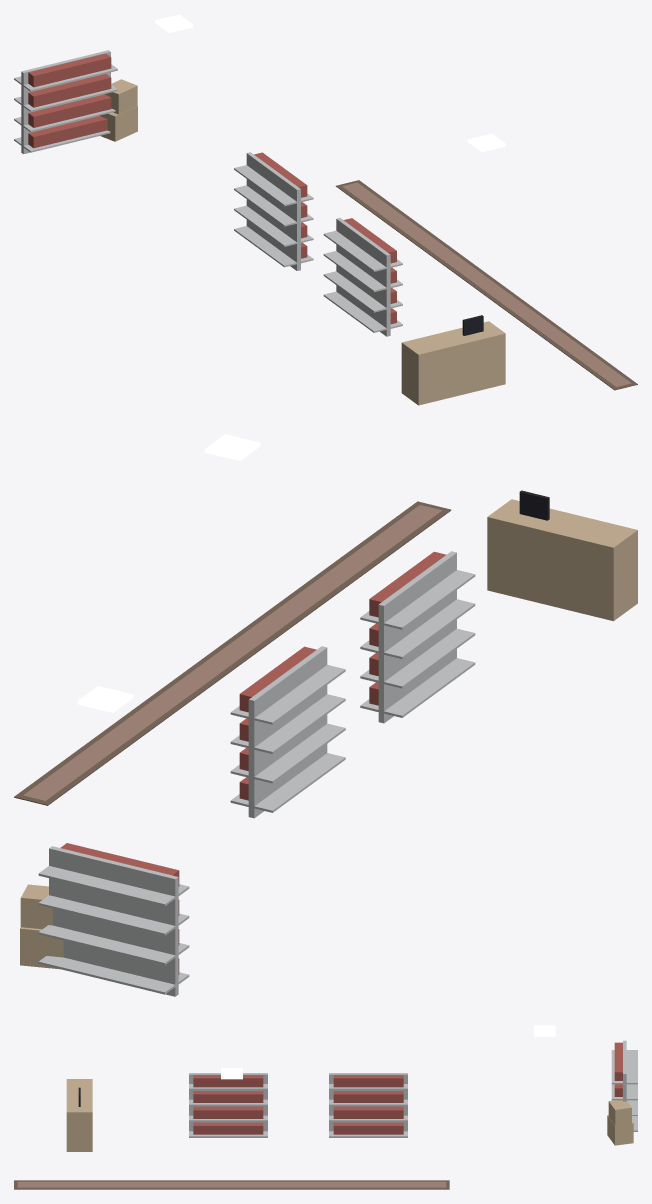
The model's file is fine-s0.glb.
3 renders of one model, top to bottom at view 1: azimuth 30°, elevation 25°; view 2: azimuth 150°, elevation 25°; view 3: azimuth 270°, elevation 25°, orthographic. The views are drawn at different scales.
Parts seen in each view (by area): view 1: shelving.000, shop-counter.000, soft-s0, shelf.000, shelf.001, cardboard-box.000; view 2: shelving.000, shop-counter.000, soft-s0, shelf.000, shelf.001, cardboard-box.000, ceiling-lamp.001, ceiling-lamp.000; view 3: shelf.000, shelf.001, soft-s0, shop-counter.000, shelving.000, cardboard-box.000, ceiling-lamp.000, ceiling-lamp.001.
Boxes of the visible parts, x1,y1,x2,y2 form: shelving.000: (14,50,117,154); shop-counter.000: (401,315,505,405); soft-s0: (336,180,637,390); shelf.000: (234,152,313,270); shelf.001: (323,218,402,336); cardboard-box.000: (100,79,137,141); shelving.000: (38,843,189,996); shop-counter.000: (487,490,637,621); soft-s0: (14,501,451,805); shelf.000: (230,646,345,818); shelf.001: (360,551,475,723); cardboard-box.000: (20,884,63,969); ceiling-lamp.001: (77,686,133,712); ceiling-lamp.000: (205,434,260,460); shelf.000: (329,1073,407,1137); shelf.001: (189,1073,267,1137); soft-s0: (14,1180,449,1189); shop-counter.000: (66,1079,92,1151); shelving.000: (611,1040,637,1131); cardboard-box.000: (607,1100,633,1145); ceiling-lamp.000: (221,1068,242,1079); ceiling-lamp.001: (534,1025,555,1036).
Size of the model in its own units: 4.64 by 2.83 by 14.26.
